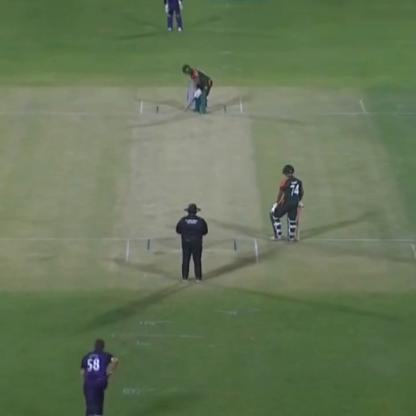bat: (184, 87, 203, 112)
pitch: (122, 99, 260, 273)
